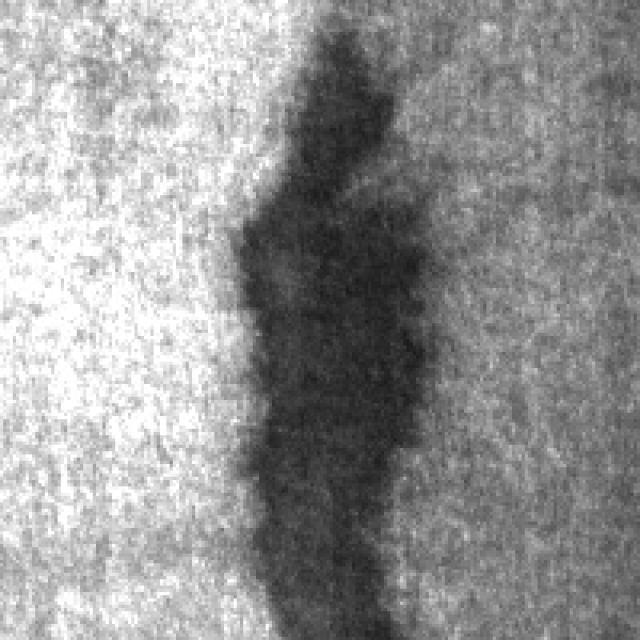patches: (243, 176, 451, 637), (278, 9, 397, 294)
